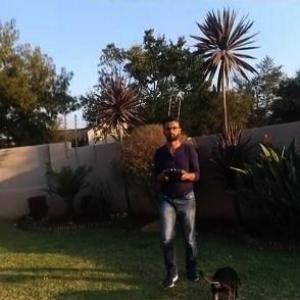follow: (151, 111, 205, 291)
null: (199, 266, 248, 299)
